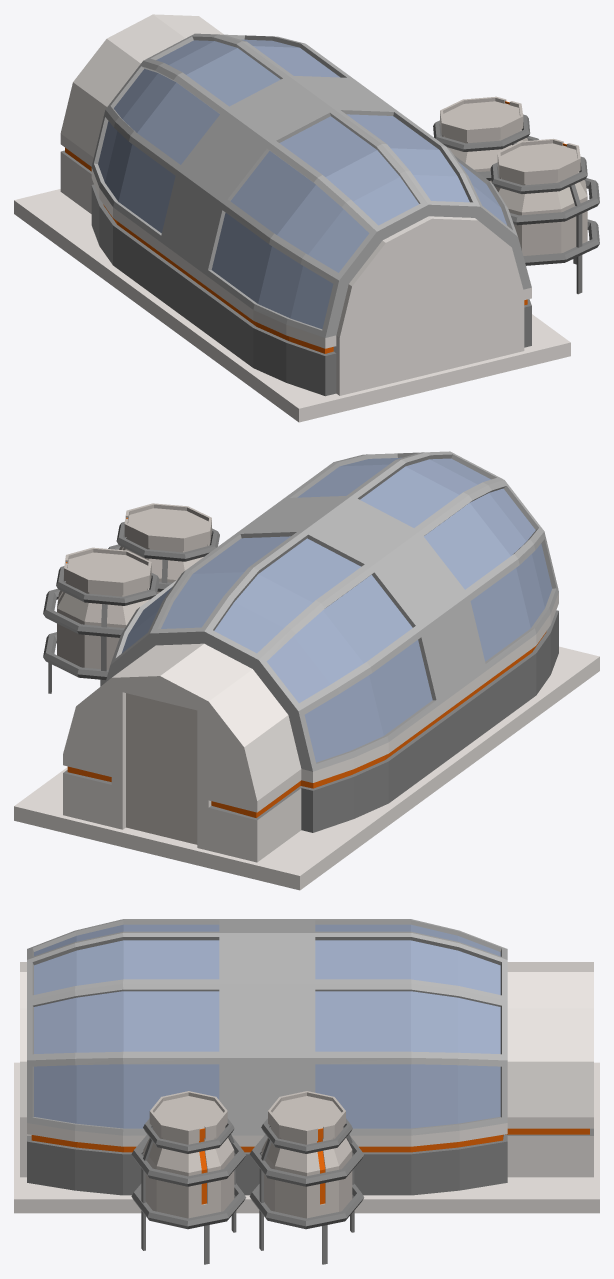
The model's file is Mars-One_farm.FBX.
3 renders of one model, top to bottom at view 1: azimuth 30°, elevation 25°; view 2: azimuth 150°, elevation 25°; view 3: azimuth 270°, elevation 25°, orthographic. The views are drawn at different scales.
Parts seen in each view (by area): view 1: Cylinder001; view 2: Cylinder001; view 3: Cylinder001.
Part boxes in pixels (<box>): Cylinder001: <box>14,14,599,422</box>; Cylinder001: <box>14,451,599,890</box>; Cylinder001: <box>14,919,599,1264</box>.
Size of the model in its own units: 14.16 by 7.29 by 18.21.
1 material, 1 textured.
